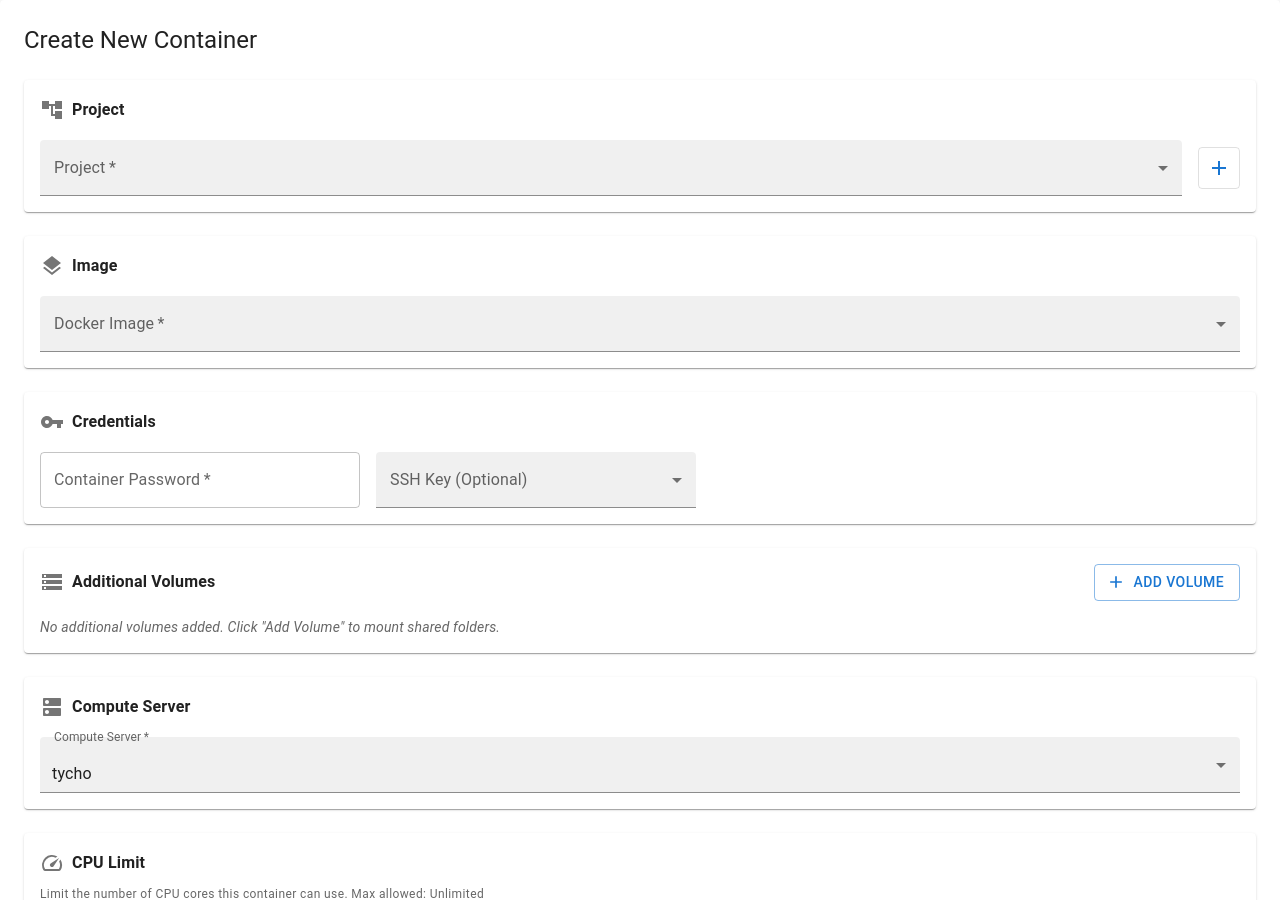
a project created with the + button is selected in the form
Check: the dropdown with test id "container-project-select" is shown, box [40,140,1182,196]
Click the button with test id "container-project-add".
click(1219, 168)  # box [1198,147,1240,189]
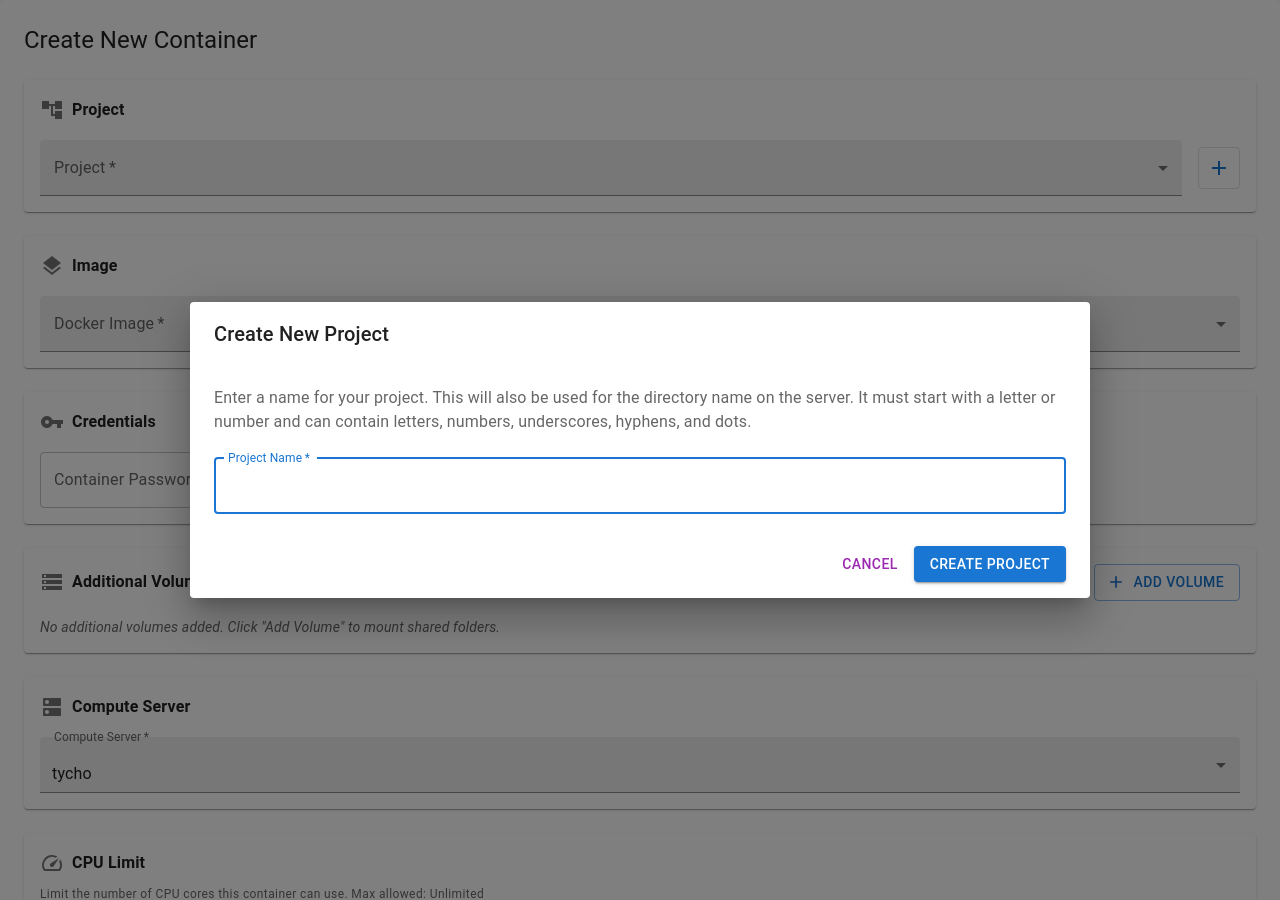
Type "fresh" into the field with test id "project-name-input".
click(640, 486); type("fresh")  # box [214,458,1066,514]
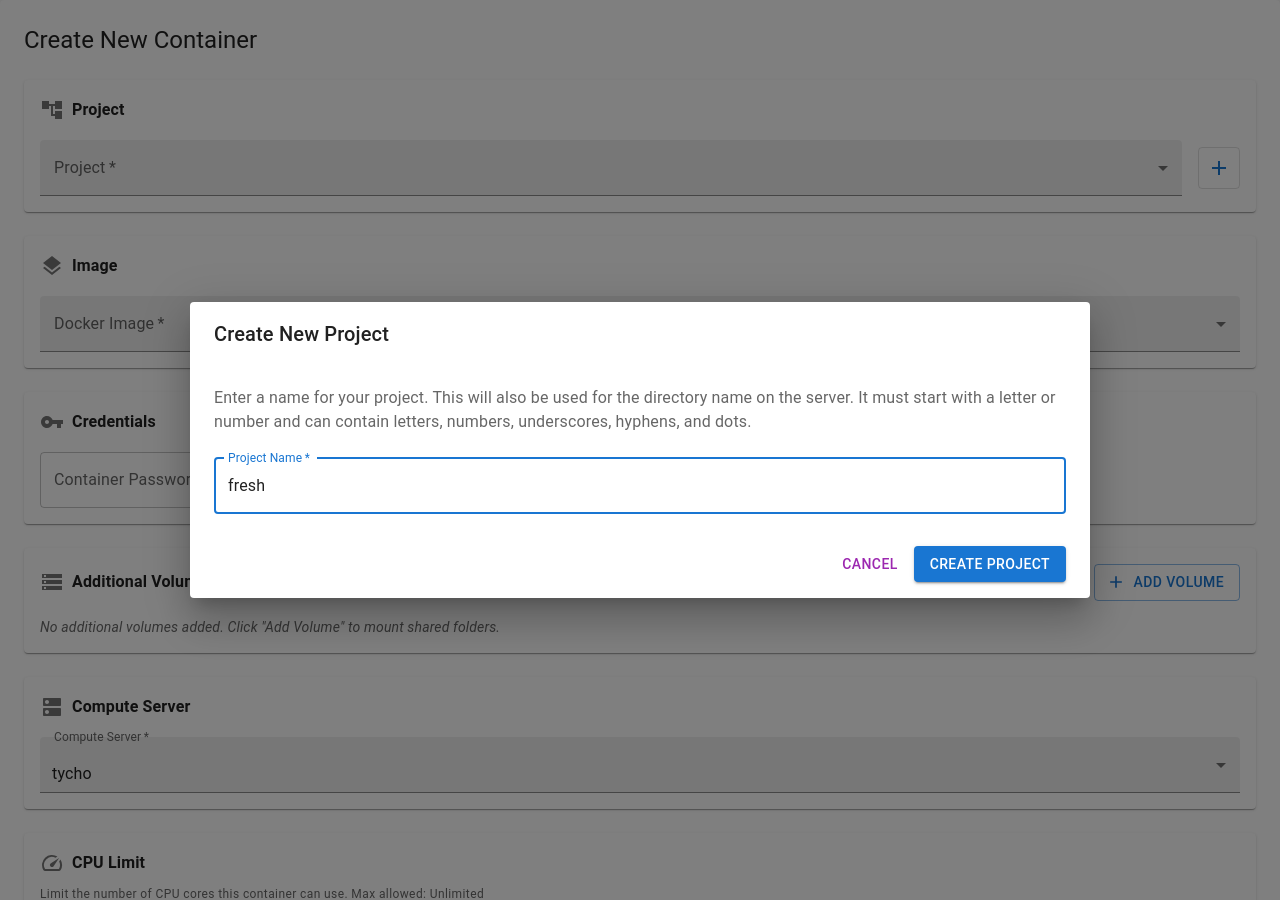
Click the button with test id "project-modal-submit".
click(990, 564)  # box [914,546,1066,582]
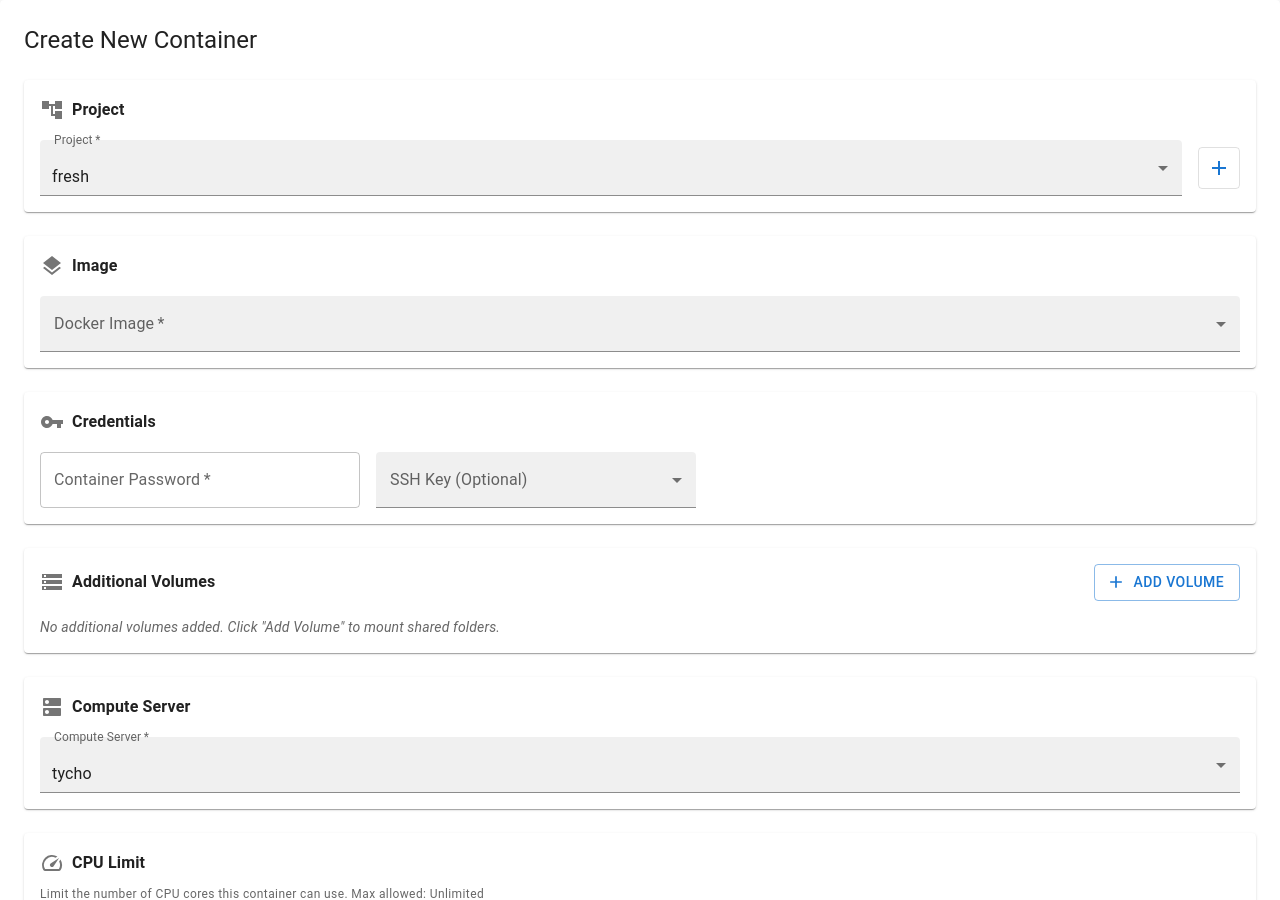
Check: the dropdown with test id "container-project-select" reads "fresh", box [52,167,89,186]
